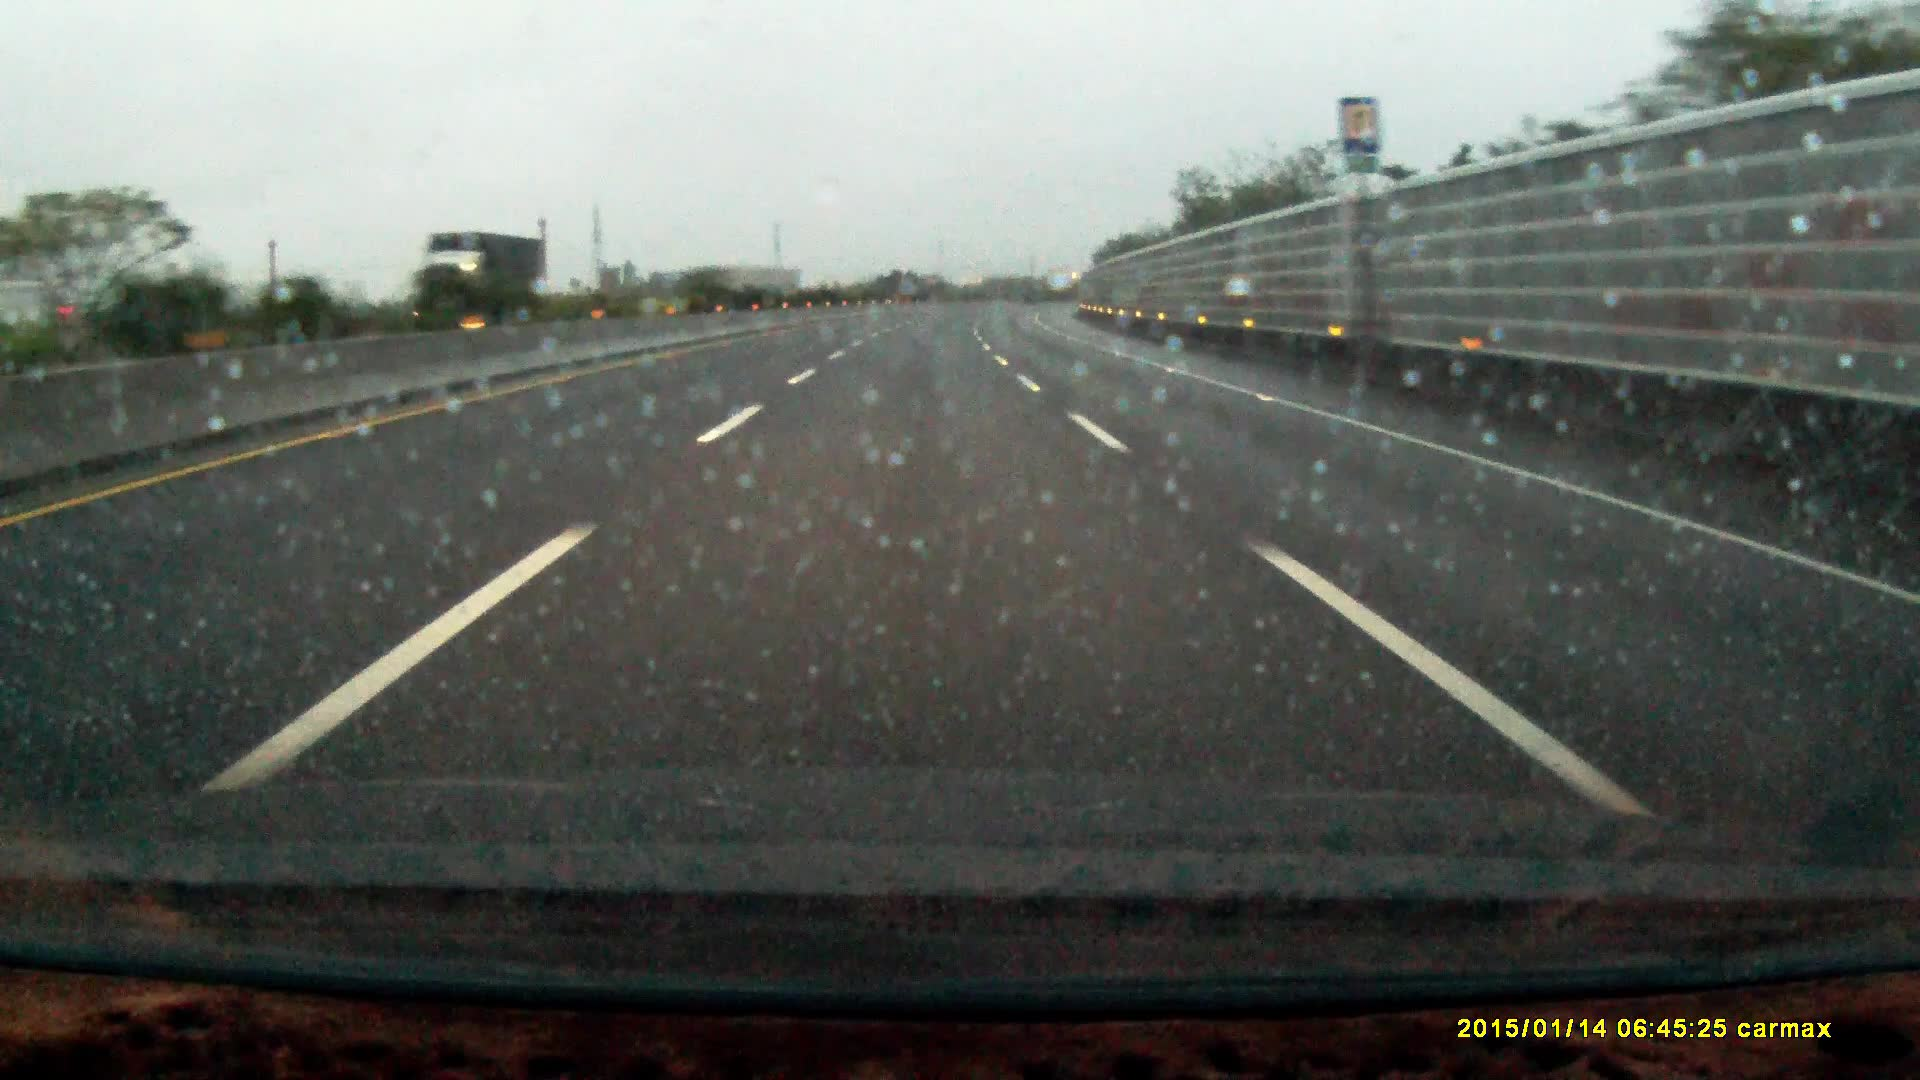vehicle: (411, 229, 549, 330)
